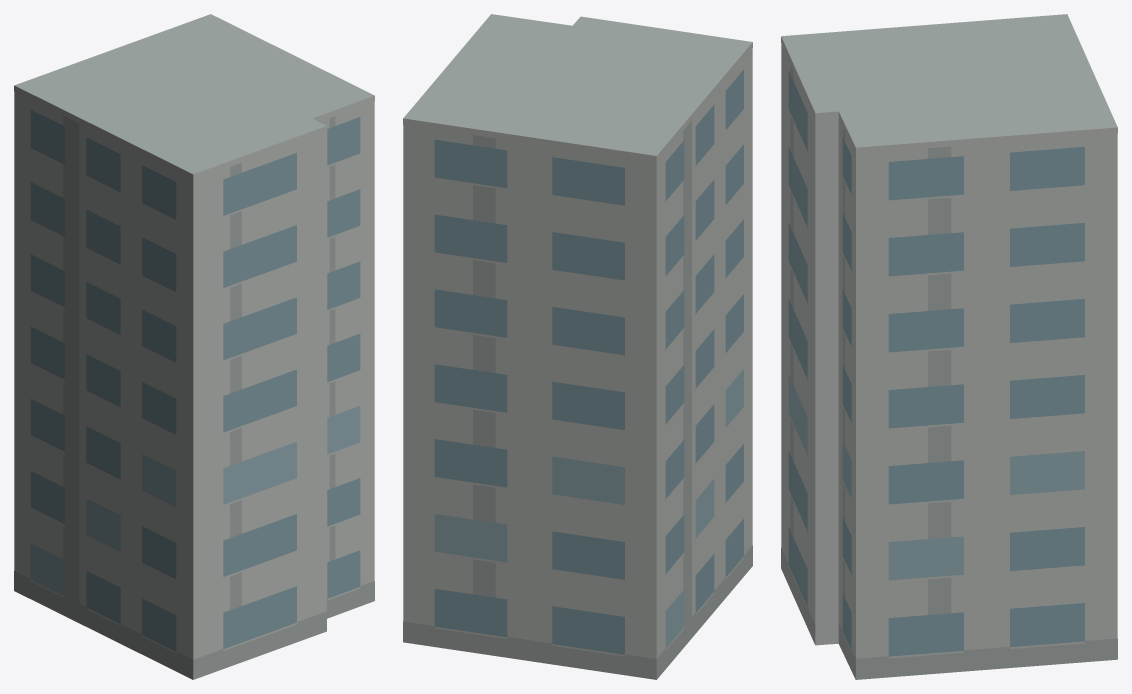
The model's file is survey-upis-32765591.glb.
3 views of the same model, side by side, from view 1: azimuth 30°, elevation 25°; view 2: azimuth 150°, elevation 25°; view 3: azimuth 270°, elevation 25° (orthographic). The views are drawn at different scales.
Parts seen in each view (by area): view 1: survey-upis-32765591.tmp; view 2: survey-upis-32765591.tmp; view 3: survey-upis-32765591.tmp.
Part boxes in pixels (x1,y1,x2,y2): survey-upis-32765591.tmp: (14, 14, 374, 679); survey-upis-32765591.tmp: (403, 14, 752, 679); survey-upis-32765591.tmp: (781, 14, 1117, 679).
Size of the model in its own units: 11.21 by 20.8 by 11.94.
